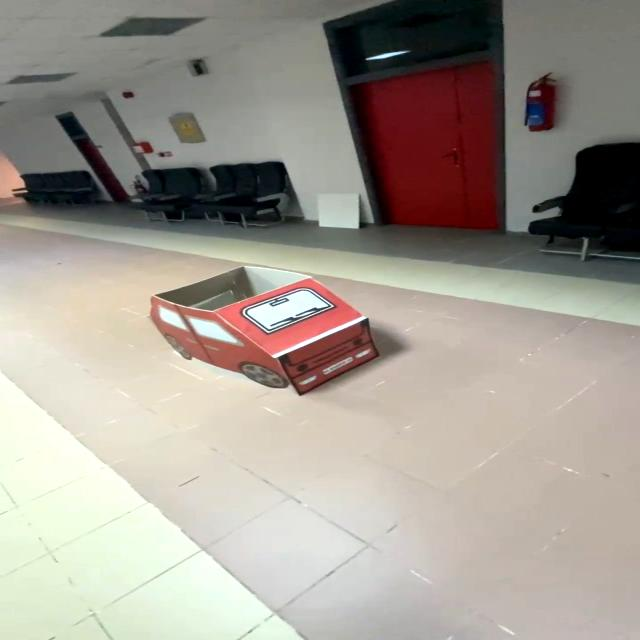red_car: (126, 254, 435, 410)
